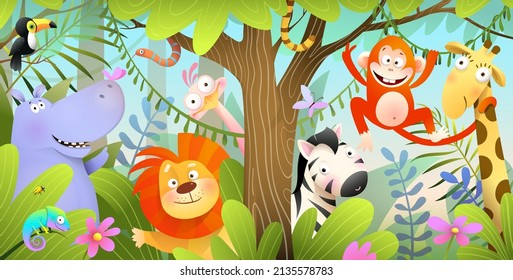animal: (11, 72, 126, 210), (445, 47, 513, 216), (136, 144, 242, 246), (352, 39, 429, 135), (293, 142, 360, 214), (181, 72, 242, 129), (129, 25, 179, 64)
bird: (10, 17, 50, 71), (290, 84, 327, 118)
flower: (375, 143, 432, 261), (437, 162, 482, 210), (80, 217, 118, 254), (435, 214, 476, 248)
tree: (223, 6, 294, 258), (113, 3, 509, 37)
